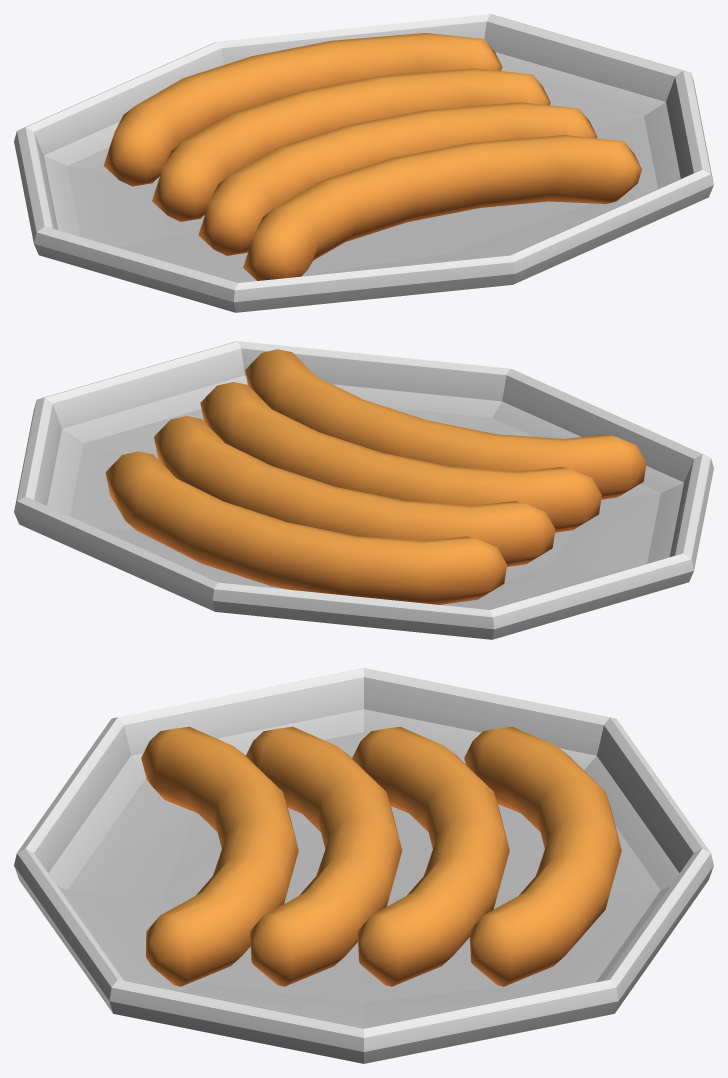
Rendered from sausages_tray.fbx.
The picture shows the model from 3 angles, top to bottom: view 1: azimuth 30°, elevation 25°; view 2: azimuth 150°, elevation 25°; view 3: azimuth 270°, elevation 25°; orthographic projection. The views are drawn at different scales.
Visible parts, largest first — view 1: sausages_tray; view 2: sausages_tray; view 3: sausages_tray.
Part boxes in pixels (box(x1,y1,x2,y2)): sausages_tray: box(14, 14, 713, 312); sausages_tray: box(14, 341, 713, 639); sausages_tray: box(14, 668, 713, 1063).
Bounding box in the file's own units: 137 × 13.57 × 109.
